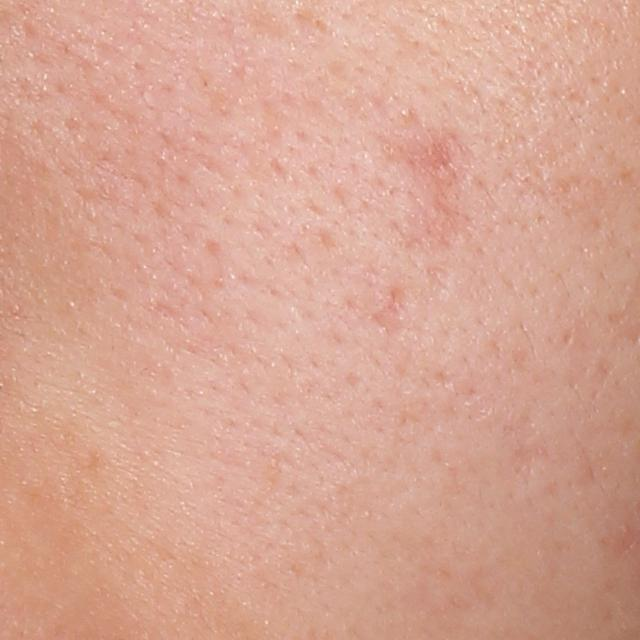atrophic_scar: (431, 370, 552, 496), (394, 128, 478, 256)
